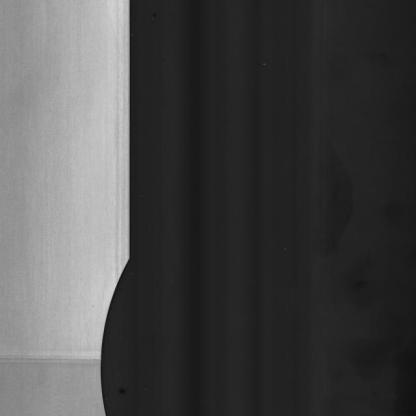crescent_gap: (93, 244, 147, 416)
welding_line: (2, 345, 102, 379)
